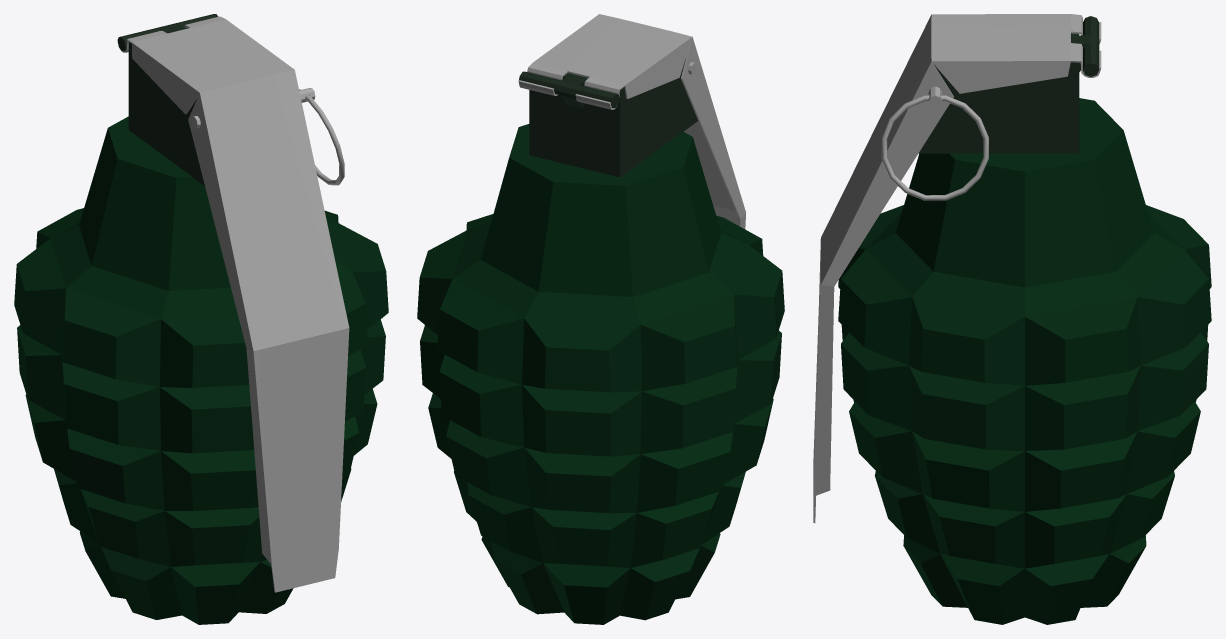
The model's file is Mesh_FragGrenade.fbx.
3 views of the same model, side by side, from view 1: azimuth 30°, elevation 25°; view 2: azimuth 150°, elevation 25°; view 3: azimuth 270°, elevation 25° (orthographic). The views are drawn at different scales.
Visible parts, largest first — view 1: Body, Lever, Cap, Ring; view 2: Body, Lever, Cap; view 3: Body, Lever, Cap, Ring.
Boxes of the visible parts, <box> form: Body: <box>14,116,388,624</box>; Lever: <box>117,16,349,592</box>; Cap: <box>117,14,218,186</box>; Ring: <box>299,89,344,185</box>; Body: <box>417,124,784,624</box>; Lever: <box>518,14,745,228</box>; Cap: <box>518,58,698,177</box>; Body: <box>838,98,1211,624</box>; Lever: <box>813,14,1101,522</box>; Cap: <box>918,16,1099,153</box>; Ring: <box>881,95,988,200</box>.
Bounding box in the file's own units: 367 × 595 × 392.
